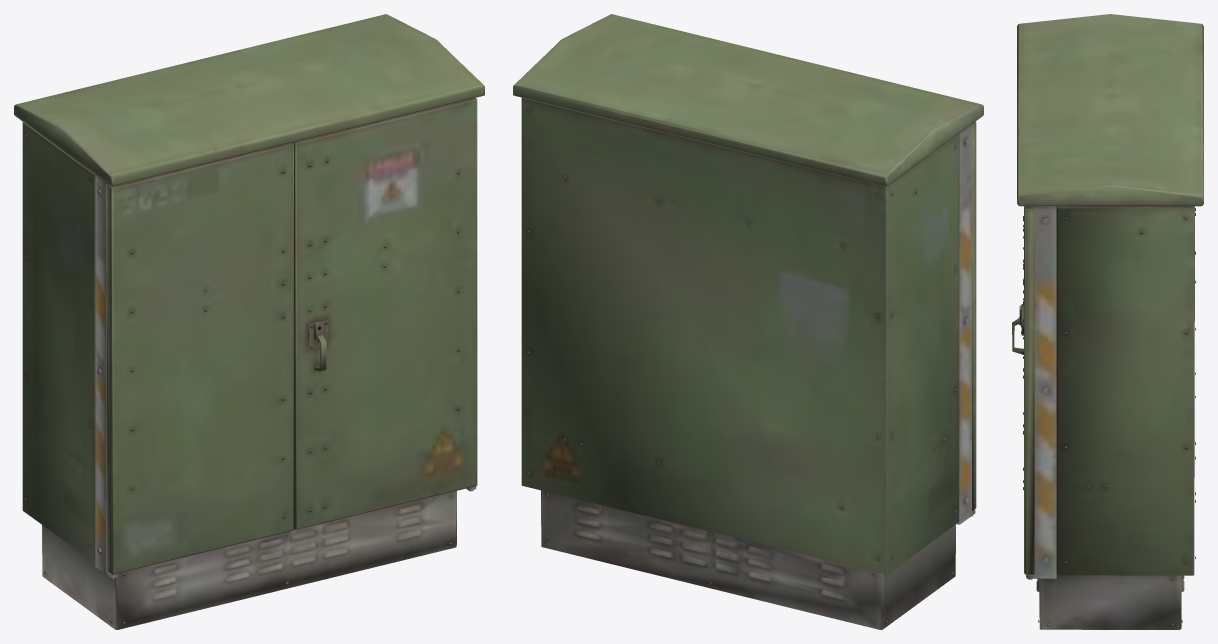
File: utility_box_02.glb
3 renders of one model, left to right at view 1: azimuth 30°, elevation 25°; view 2: azimuth 150°, elevation 25°; view 3: azimuth 270°, elevation 25°, orthographic. The views are drawn at different scales.
Parts seen in each view (by area): view 1: utility_box_02; view 2: utility_box_02; view 3: utility_box_02.
Boxes of the visible parts, x1,y1,x2,y2 form: utility_box_02: (14, 14, 484, 629); utility_box_02: (513, 14, 983, 629); utility_box_02: (1012, 14, 1203, 629).
Size of the model in its own units: 0.92 by 1.12 by 0.4312.
Materials: 1 (1 with a texture image).
